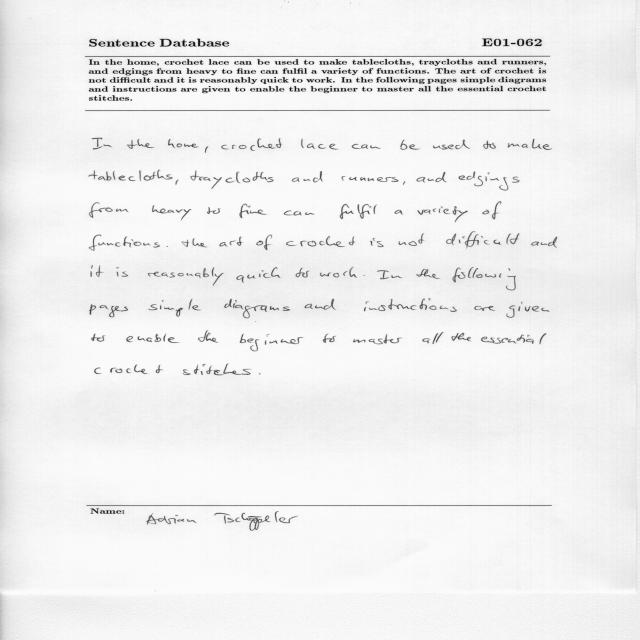word: (191, 171, 274, 189), (452, 267, 516, 290), (148, 267, 224, 286), (364, 298, 457, 312), (446, 232, 520, 249), (224, 299, 290, 318), (89, 234, 160, 251), (459, 172, 520, 191), (240, 334, 303, 351), (89, 170, 173, 181), (148, 299, 201, 316), (417, 206, 468, 222), (221, 138, 282, 151), (286, 236, 355, 247), (183, 364, 251, 375), (236, 267, 281, 283), (481, 334, 546, 345), (506, 302, 550, 318), (90, 202, 129, 218), (95, 365, 163, 374), (152, 206, 191, 221), (340, 204, 377, 219), (89, 304, 128, 317), (353, 334, 402, 344), (508, 139, 552, 150), (126, 334, 179, 343), (301, 139, 338, 150), (240, 204, 268, 218), (433, 140, 470, 150), (320, 267, 357, 277), (342, 176, 399, 182), (483, 202, 502, 220), (292, 171, 323, 182), (416, 172, 447, 183), (305, 299, 336, 310), (399, 233, 425, 246), (531, 237, 557, 248), (168, 139, 199, 148), (127, 139, 154, 149), (423, 332, 444, 344), (219, 237, 243, 247), (256, 235, 272, 250), (416, 269, 440, 279), (198, 331, 218, 343), (377, 270, 403, 279), (182, 239, 207, 248), (92, 138, 112, 149), (401, 140, 420, 150), (451, 333, 471, 341), (284, 211, 314, 216), (91, 265, 103, 277), (352, 144, 380, 149), (296, 268, 310, 278), (323, 333, 336, 343), (370, 238, 384, 247), (92, 333, 106, 342), (116, 267, 128, 277), (474, 306, 495, 311), (483, 141, 496, 149), (207, 207, 220, 214), (395, 210, 404, 214), (205, 146, 208, 153), (176, 180, 179, 185), (403, 181, 405, 185), (363, 275, 365, 276), (259, 374, 261, 375), (167, 246, 168, 247)
